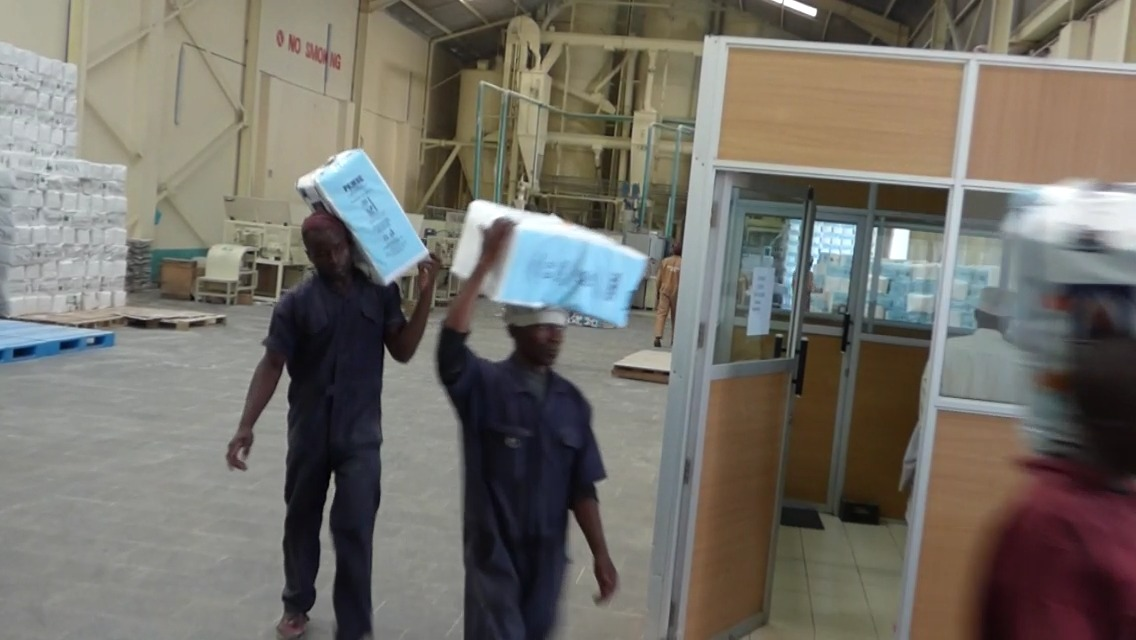wheat_flour_blue_label: (1003, 189, 1136, 435), (454, 201, 646, 323), (293, 151, 427, 284)
